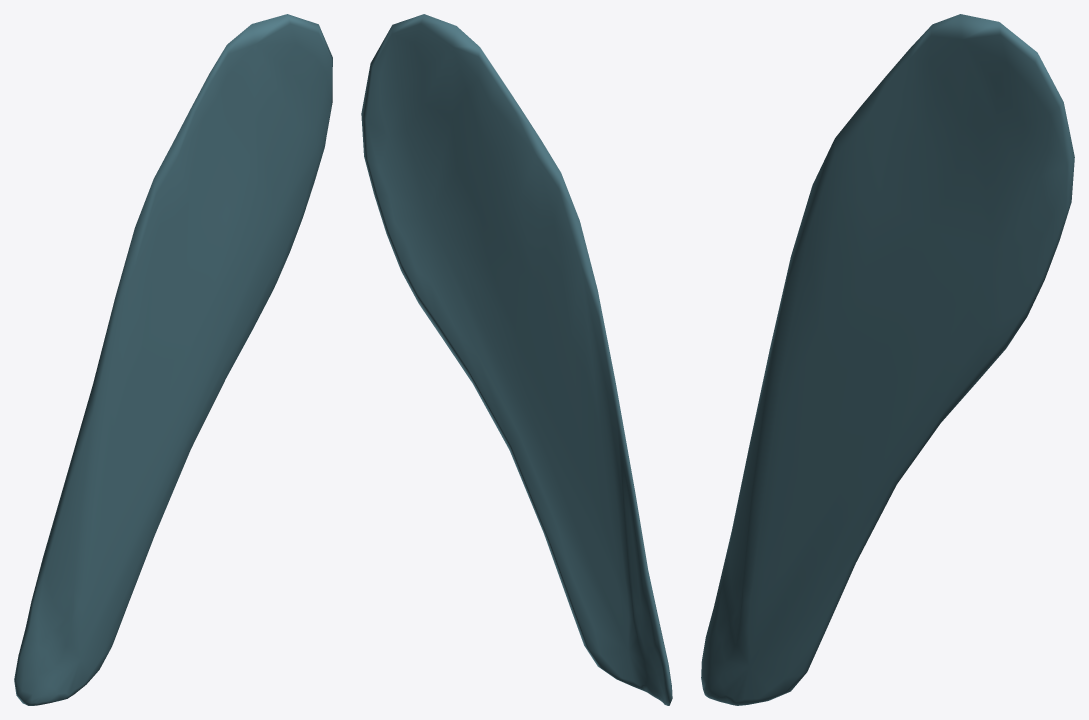
Rendered from Pectoralis_major_humeral_insertion_right.glb.
3 renders of one model, left to right at view 1: azimuth 30°, elevation 25°; view 2: azimuth 150°, elevation 25°; view 3: azimuth 330°, elevation 25°, orthographic. The views are drawn at different scales.
Parts seen in each view (by area): view 1: Pectoralis_major_muscle-Humeral_insertion.r_Generated_Mesh_F; view 2: Pectoralis_major_muscle-Humeral_insertion.r_Generated_Mesh_F; view 3: Pectoralis_major_muscle-Humeral_insertion.r_Generated_Mesh_F.
Boxes of the visible parts, x1,y1,x2,y2 form: Pectoralis_major_muscle-Humeral_insertion.r_Generated_Mesh_F: [14, 14, 332, 705]; Pectoralis_major_muscle-Humeral_insertion.r_Generated_Mesh_F: [361, 14, 672, 705]; Pectoralis_major_muscle-Humeral_insertion.r_Generated_Mesh_F: [701, 14, 1074, 705].
Size of the model in its own units: 0.0232 by 0.0446 by 0.00208.
